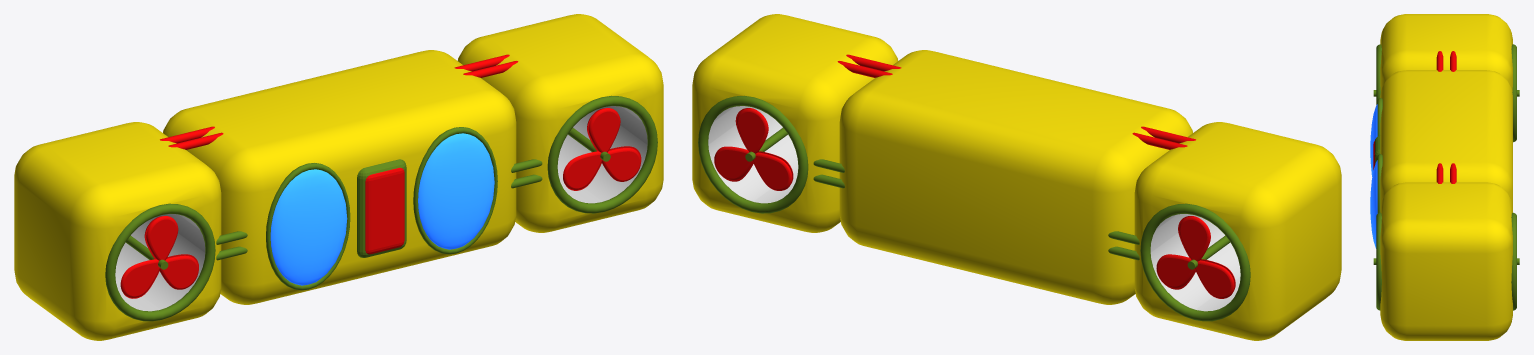
Rendered from allienship 02.fbx.
3 renders of one model, left to right at view 1: azimuth 30°, elevation 25°; view 2: azimuth 150°, elevation 25°; view 3: azimuth 270°, elevation 25°, orthographic. The views are drawn at different scales.
Parts seen in each view (by area): view 1: Cube_2_2, Cube_2, Cube_3, Sphere, Sphere_1, Torus, Torus_1, Cylinder_3, Cylinder_2, Cube, Torus_5, Torus_4 (+7 smaller); view 2: Cube_2_2, Cube_2, Cube_3, Torus_2, Torus_3, Cylinder_3, Cylinder_2, Cap_1_4, Cap_1_10, Cap_1_12, Cap_1_6, Cap_1_5 (+1 smaller); view 3: Cube_3, Cube_2_2, Cube_2, Torus_1, Sphere_1, Torus_3, Torus_2, Sphere, Torus, Torus_5, Torus_4, Capsule (+4 smaller).
Boxes of the visible parts, <box> form: Cube_2_2: <box>163,50,516,304</box>; Cube_2: <box>14,122,221,340</box>; Cube_3: <box>457,14,663,232</box>; Sphere: <box>270,169,347,285</box>; Sphere_1: <box>418,133,494,249</box>; Torus: <box>105,203,215,321</box>; Torus_1: <box>547,95,657,213</box>; Cylinder_3: <box>557,106,647,203</box>; Cylinder_2: <box>115,214,205,311</box>; Cube: <box>365,167,404,254</box>; Torus_5: <box>413,127,497,254</box>; Torus_4: <box>266,163,350,290</box>; Cube_2_2: <box>839,50,1192,304</box>; Cube_2: <box>1134,122,1341,340</box>; Cube_3: <box>692,14,898,232</box>; Torus_2: <box>1140,203,1250,321</box>; Torus_3: <box>698,95,808,213</box>; Cylinder_3: <box>708,106,798,203</box>; Cylinder_2: <box>1150,214,1240,311</box>; Cap_1_4: <box>1180,220,1207,260</box>; Cap_1_10: <box>738,112,764,152</box>; Cap_1_12: <box>753,156,788,189</box>; Cap_1_6: <box>1196,264,1230,297</box>; Cap_1_5: <box>1158,258,1191,286</box>; Cube_3: <box>1380,182,1512,340</box>; Cube_2_2: <box>1380,70,1512,207</box>; Cube_2: <box>1380,14,1512,91</box>; Torus_1: <box>1376,212,1381,310</box>; Sphere_1: <box>1370,160,1377,248</box>; Torus_3: <box>1511,212,1516,310</box>; Torus_2: <box>1511,44,1516,142</box>; Sphere: <box>1370,104,1377,176</box>; Torus: <box>1376,44,1381,104</box>; Torus_5: <box>1377,154,1382,213</box>; Torus_4: <box>1377,98,1382,136</box>; Capsule: <box>1436,51,1443,71</box>.
Size of the model in its own units: 800 by 200 by 225.
